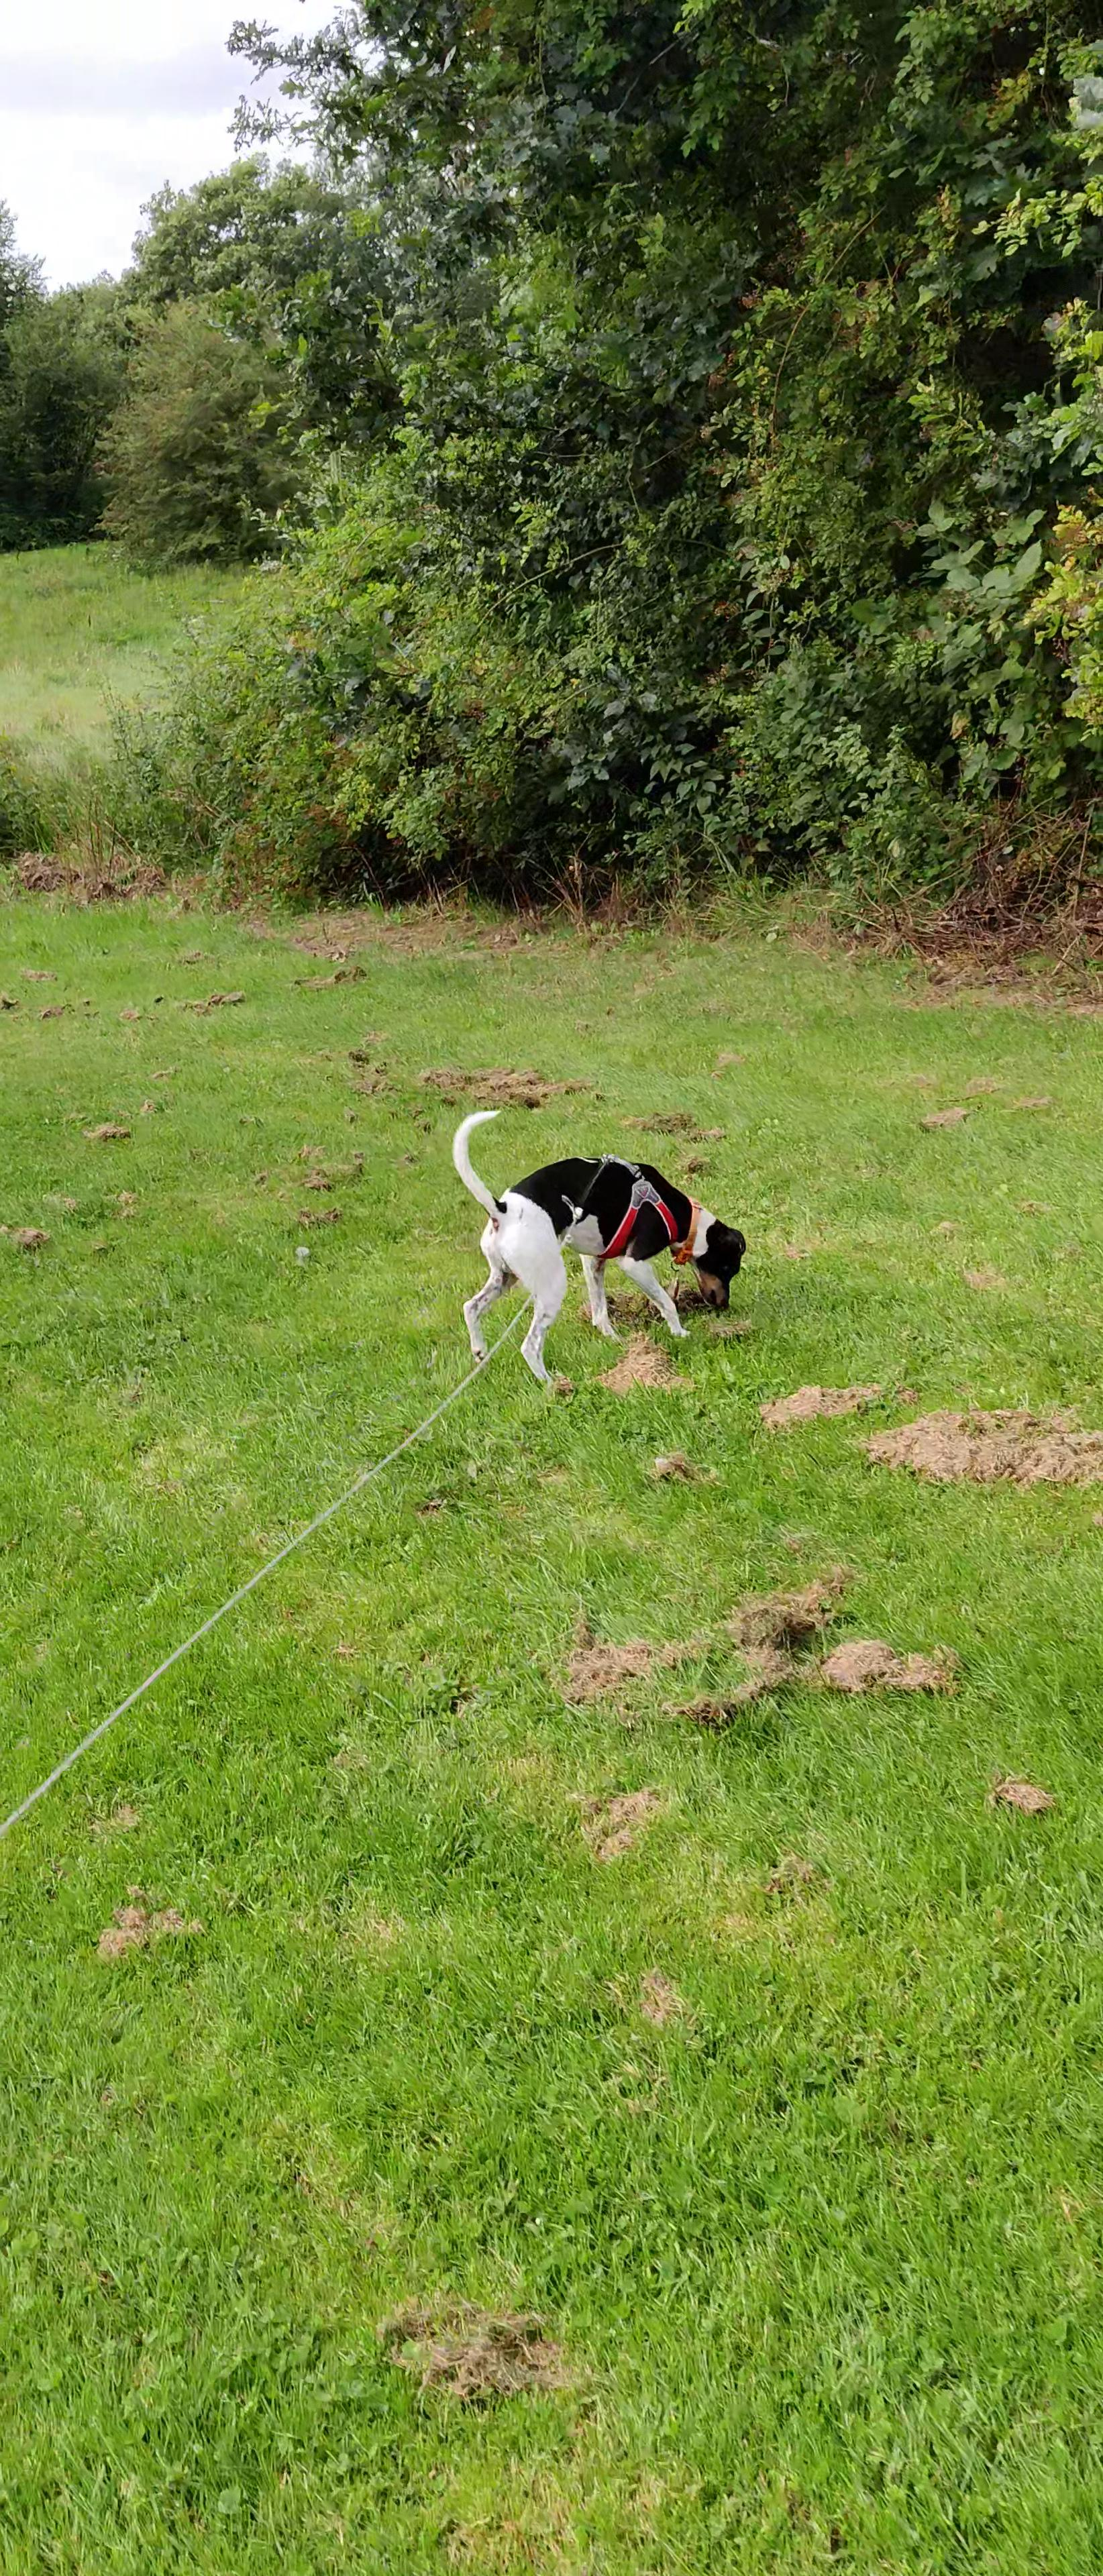Dog: (449, 1106, 753, 1395)
